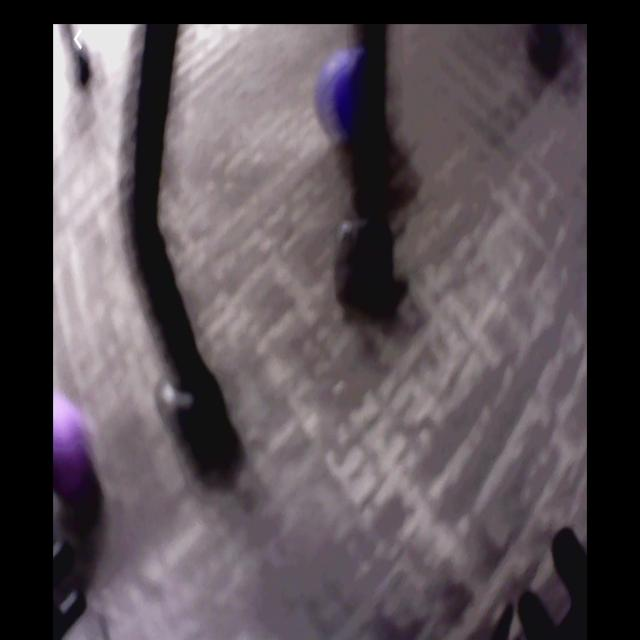ball: (54, 390, 94, 495), (317, 47, 360, 139)
